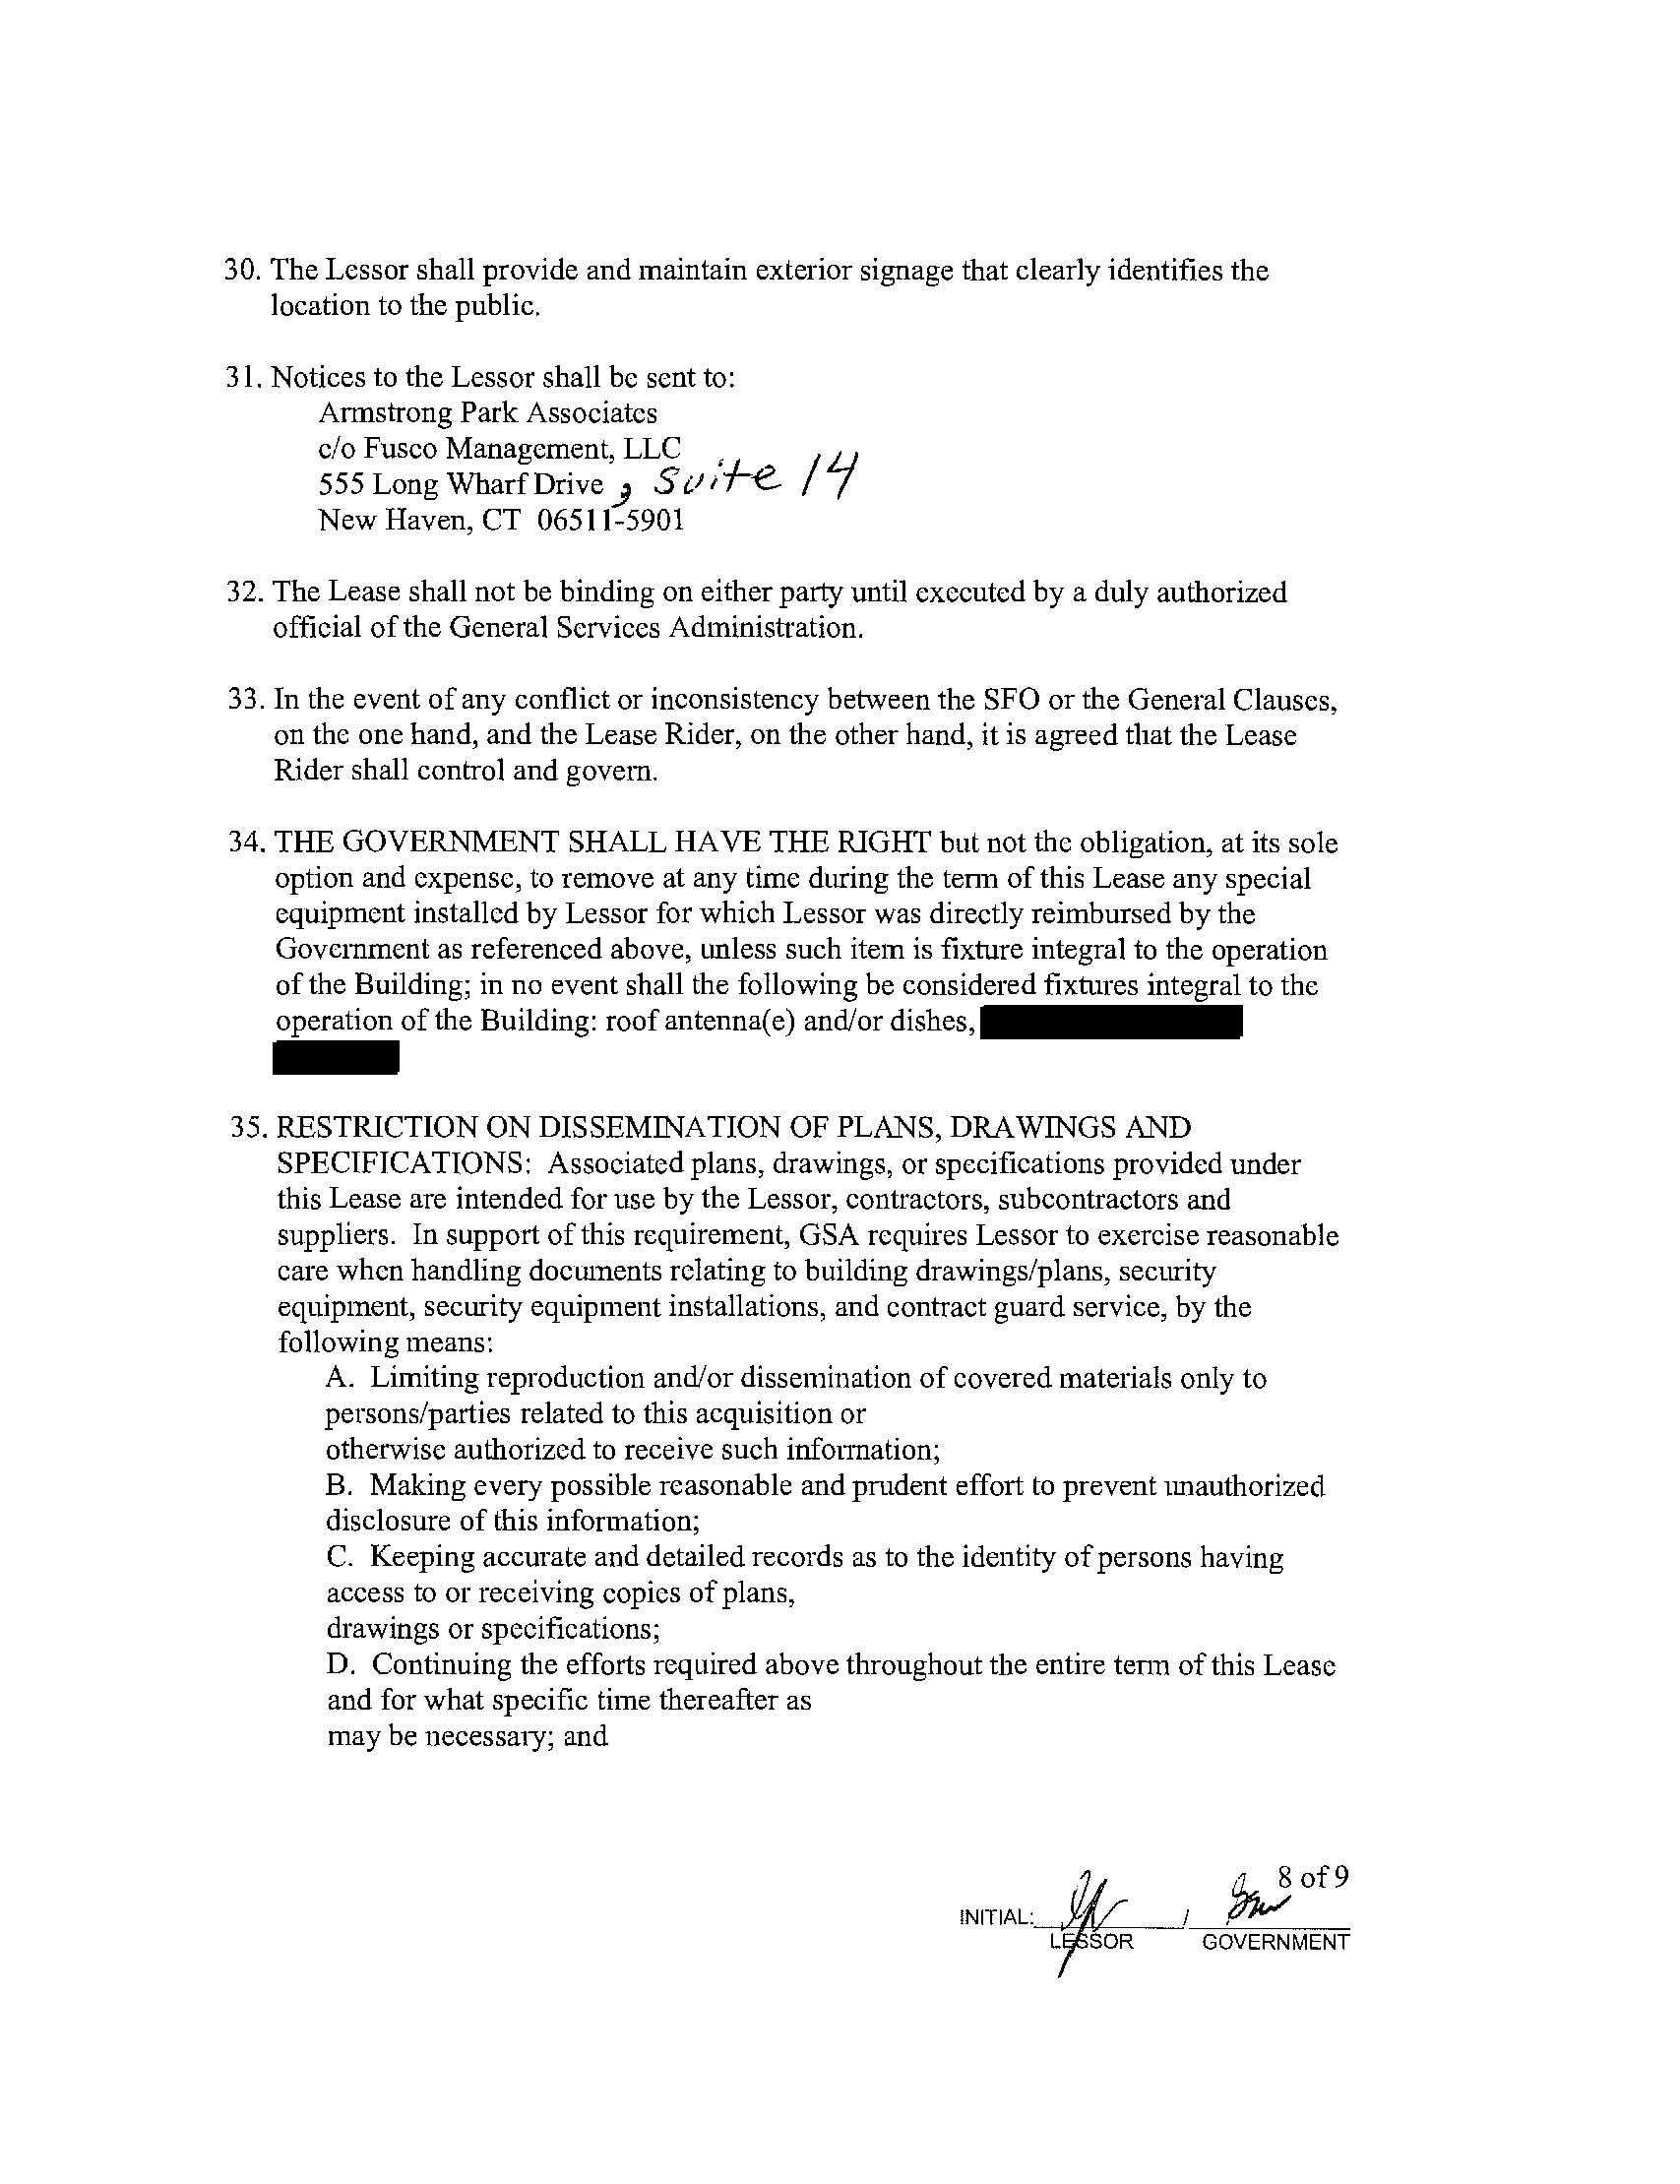handwritten: (639, 459, 900, 499), (1046, 1861, 1131, 1978), (1205, 1879, 1304, 1925)
